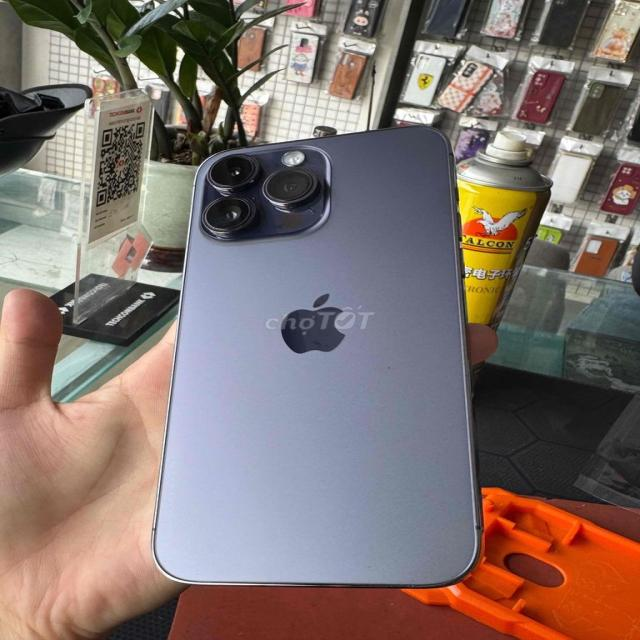gen_14: (146, 121, 493, 599)
